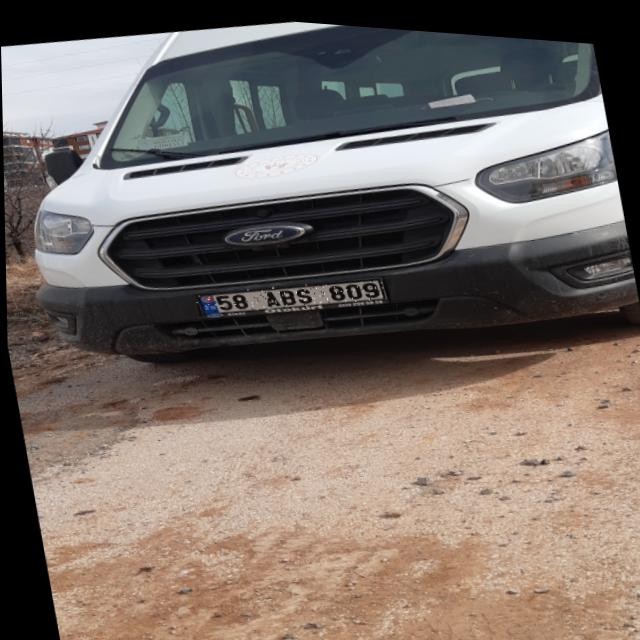plate: (193, 262, 384, 324)
